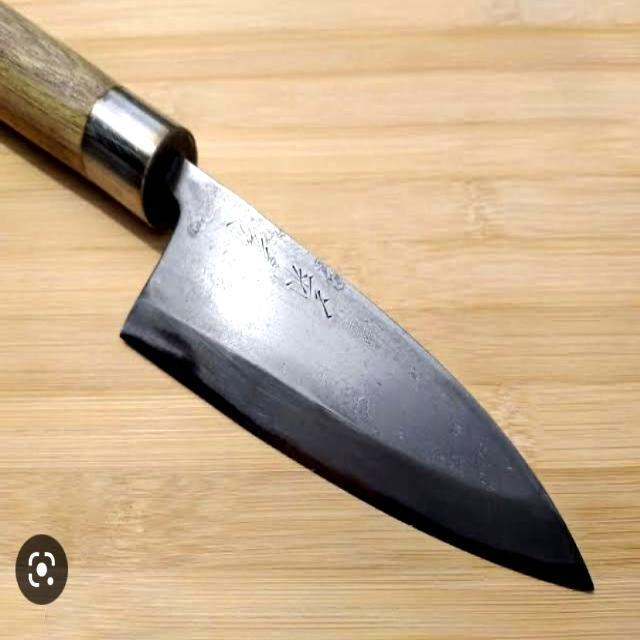knife: (0, 3, 604, 611)
